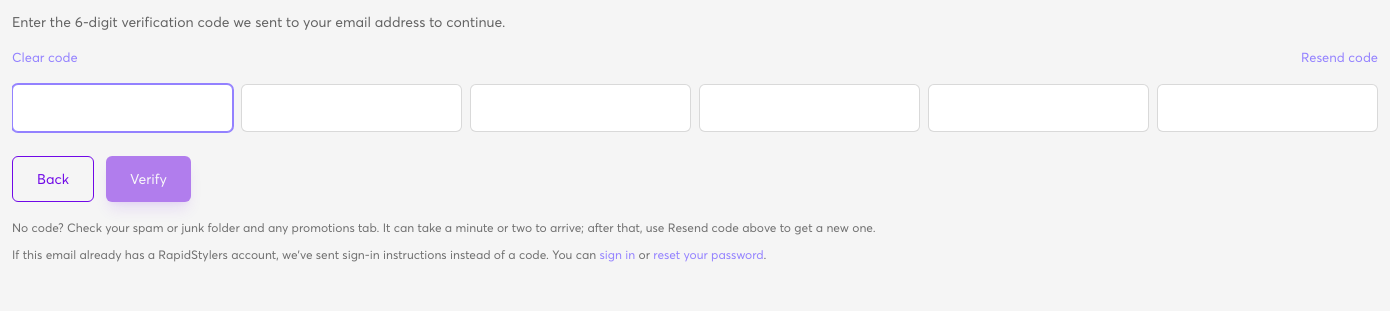
it: styler signup email verification › tells a professional with no address to go back a step rather than failing silently
The width and height of the screenshot is (1390, 311).
What coordinates should you click on to do the following:
click the button "Resend code"
I would click on:
 (1339, 58)
Its box is [1301,48,1378,68].
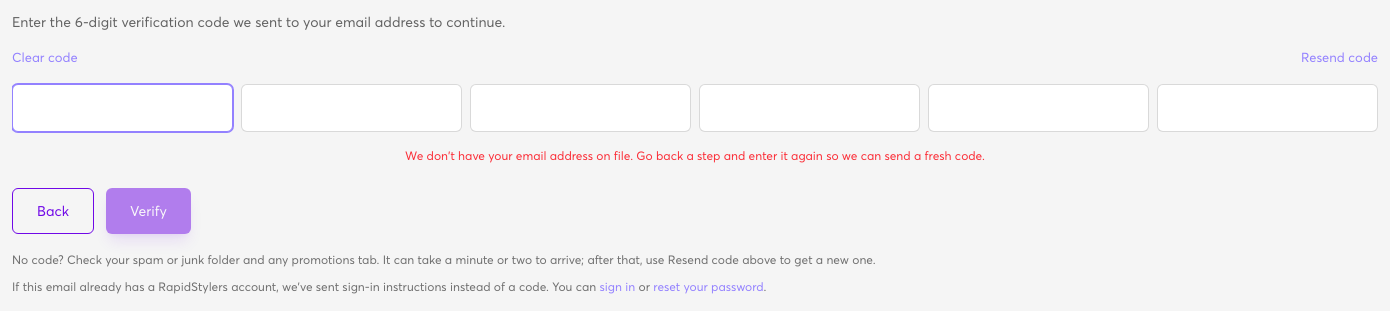
Expected: the message shows "don't have your email address", [405,148,985,162]
